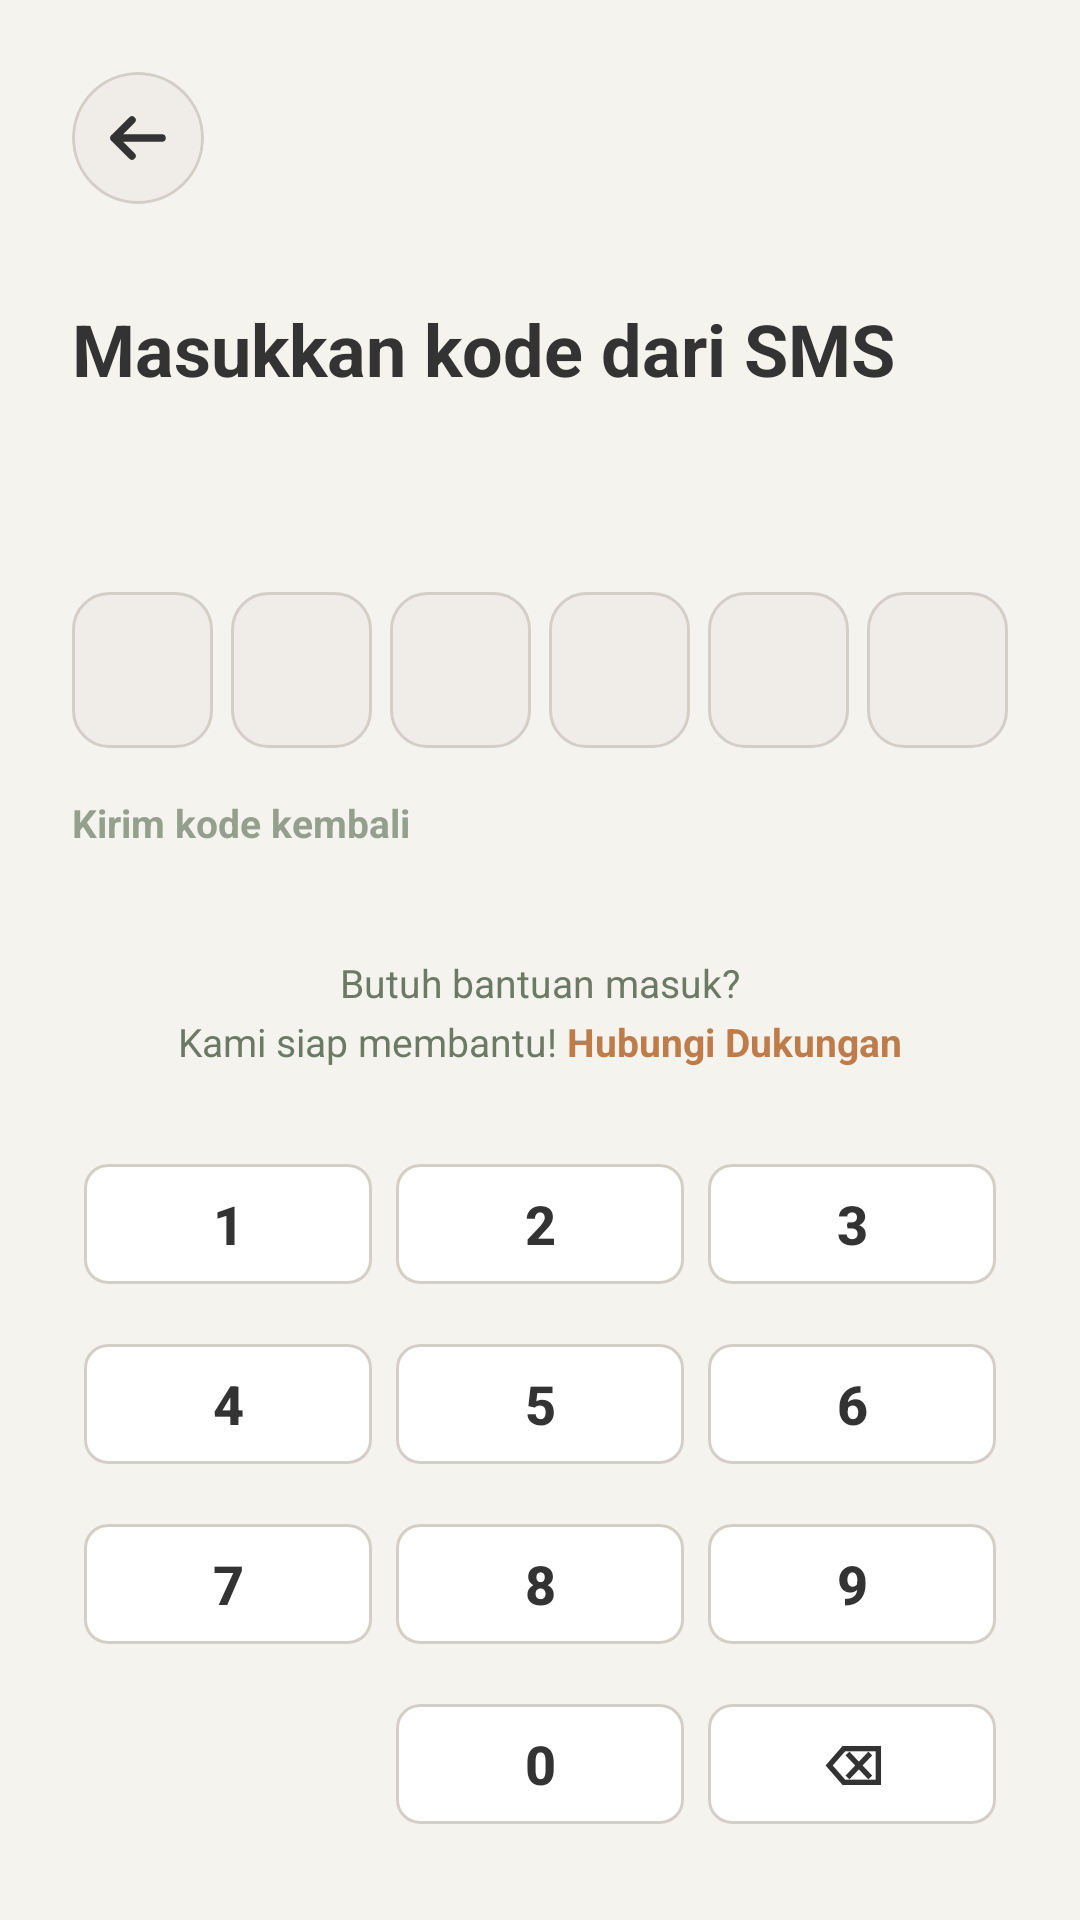

Icons on this 1080w x 1920h Android screen, each with its box as bbox(x1, y1, x2, y2):
back arrow: bbox(110, 116, 166, 160)
